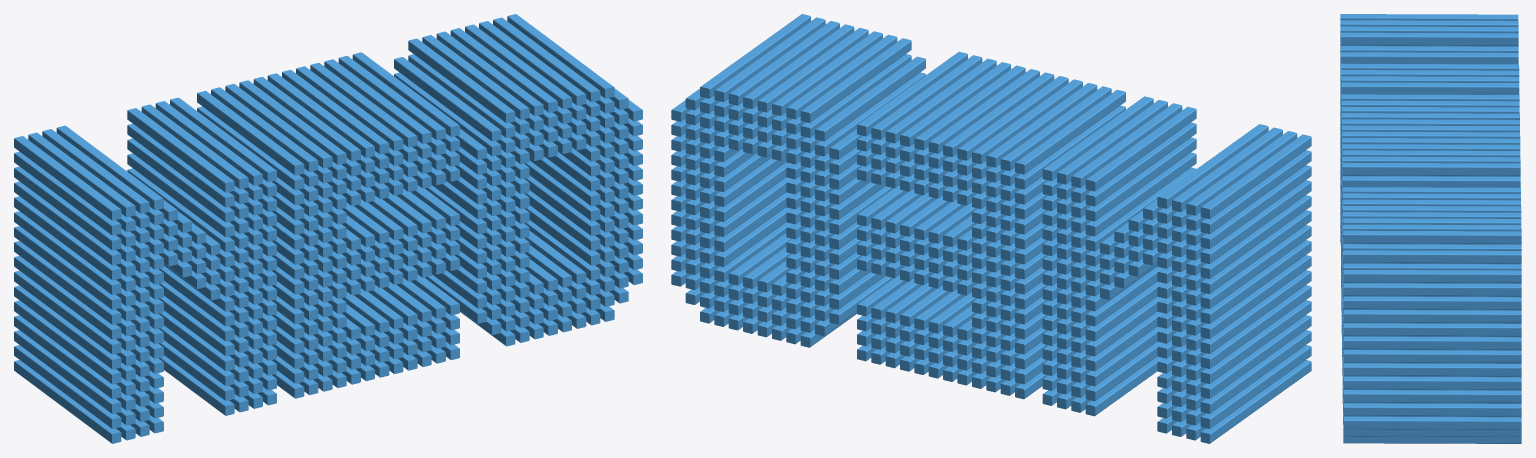
The model's file is neo.fbx.
The picture shows the model from 3 angles, left to right: view 1: azimuth 30°, elevation 25°; view 2: azimuth 150°, elevation 25°; view 3: azimuth 270°, elevation 25°; orthographic projection. The views are drawn at different scales.
Visible parts, largest first — view 1: neo; view 2: neo; view 3: neo.
Boxes of the visible parts, <box> form: neo: <box>14,14,642,443</box>; neo: <box>671,14,1311,443</box>; neo: <box>1340,14,1521,443</box>.
Bounding box in the file's own units: 19.61 × 8.17 × 6.43.
